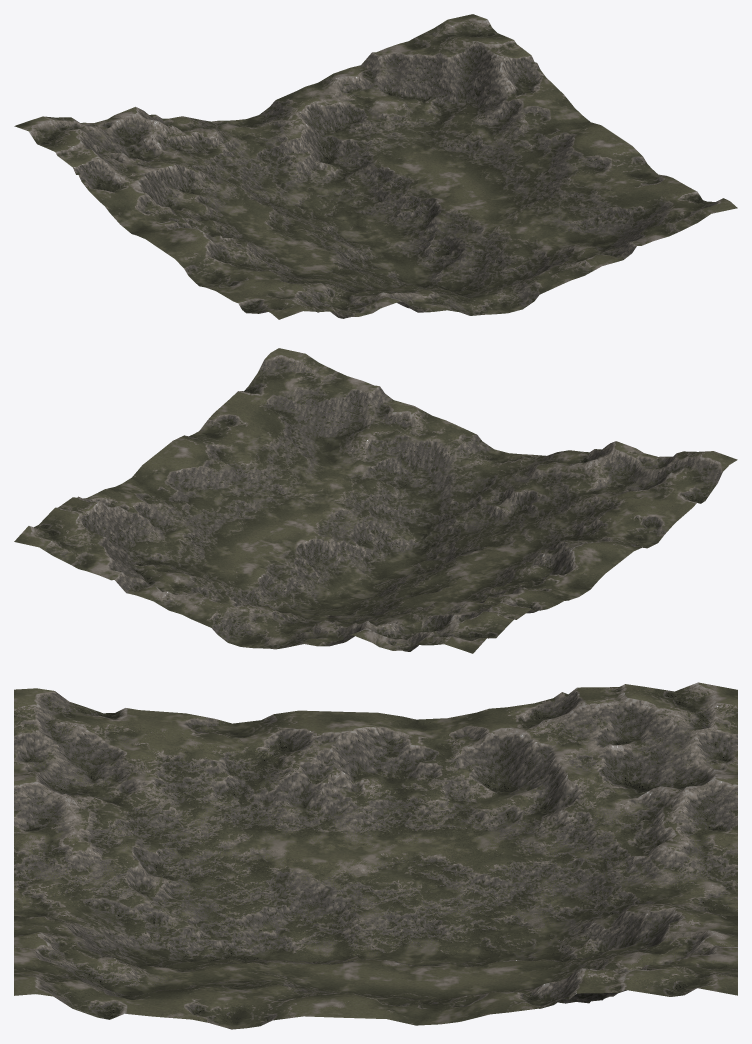
Rendered from outer_area.fbx.
The picture shows the model from 3 angles, top to bottom: view 1: azimuth 30°, elevation 25°; view 2: azimuth 150°, elevation 25°; view 3: azimuth 270°, elevation 25°; orthographic projection. The views are drawn at different scales.
Parts seen in each view (by area): view 1: heightmap; view 2: heightmap; view 3: heightmap.
Boxes of the visible parts, x1=… form: heightmap: x1=14, y1=14, x2=737, y2=319; heightmap: x1=14, y1=348, x2=737, y2=653; heightmap: x1=14, y1=682, x2=737, y2=1029.
Size of the model in its own units: 100023 by 19447 by 100017.
Materials: 1 (1 with a texture image).
